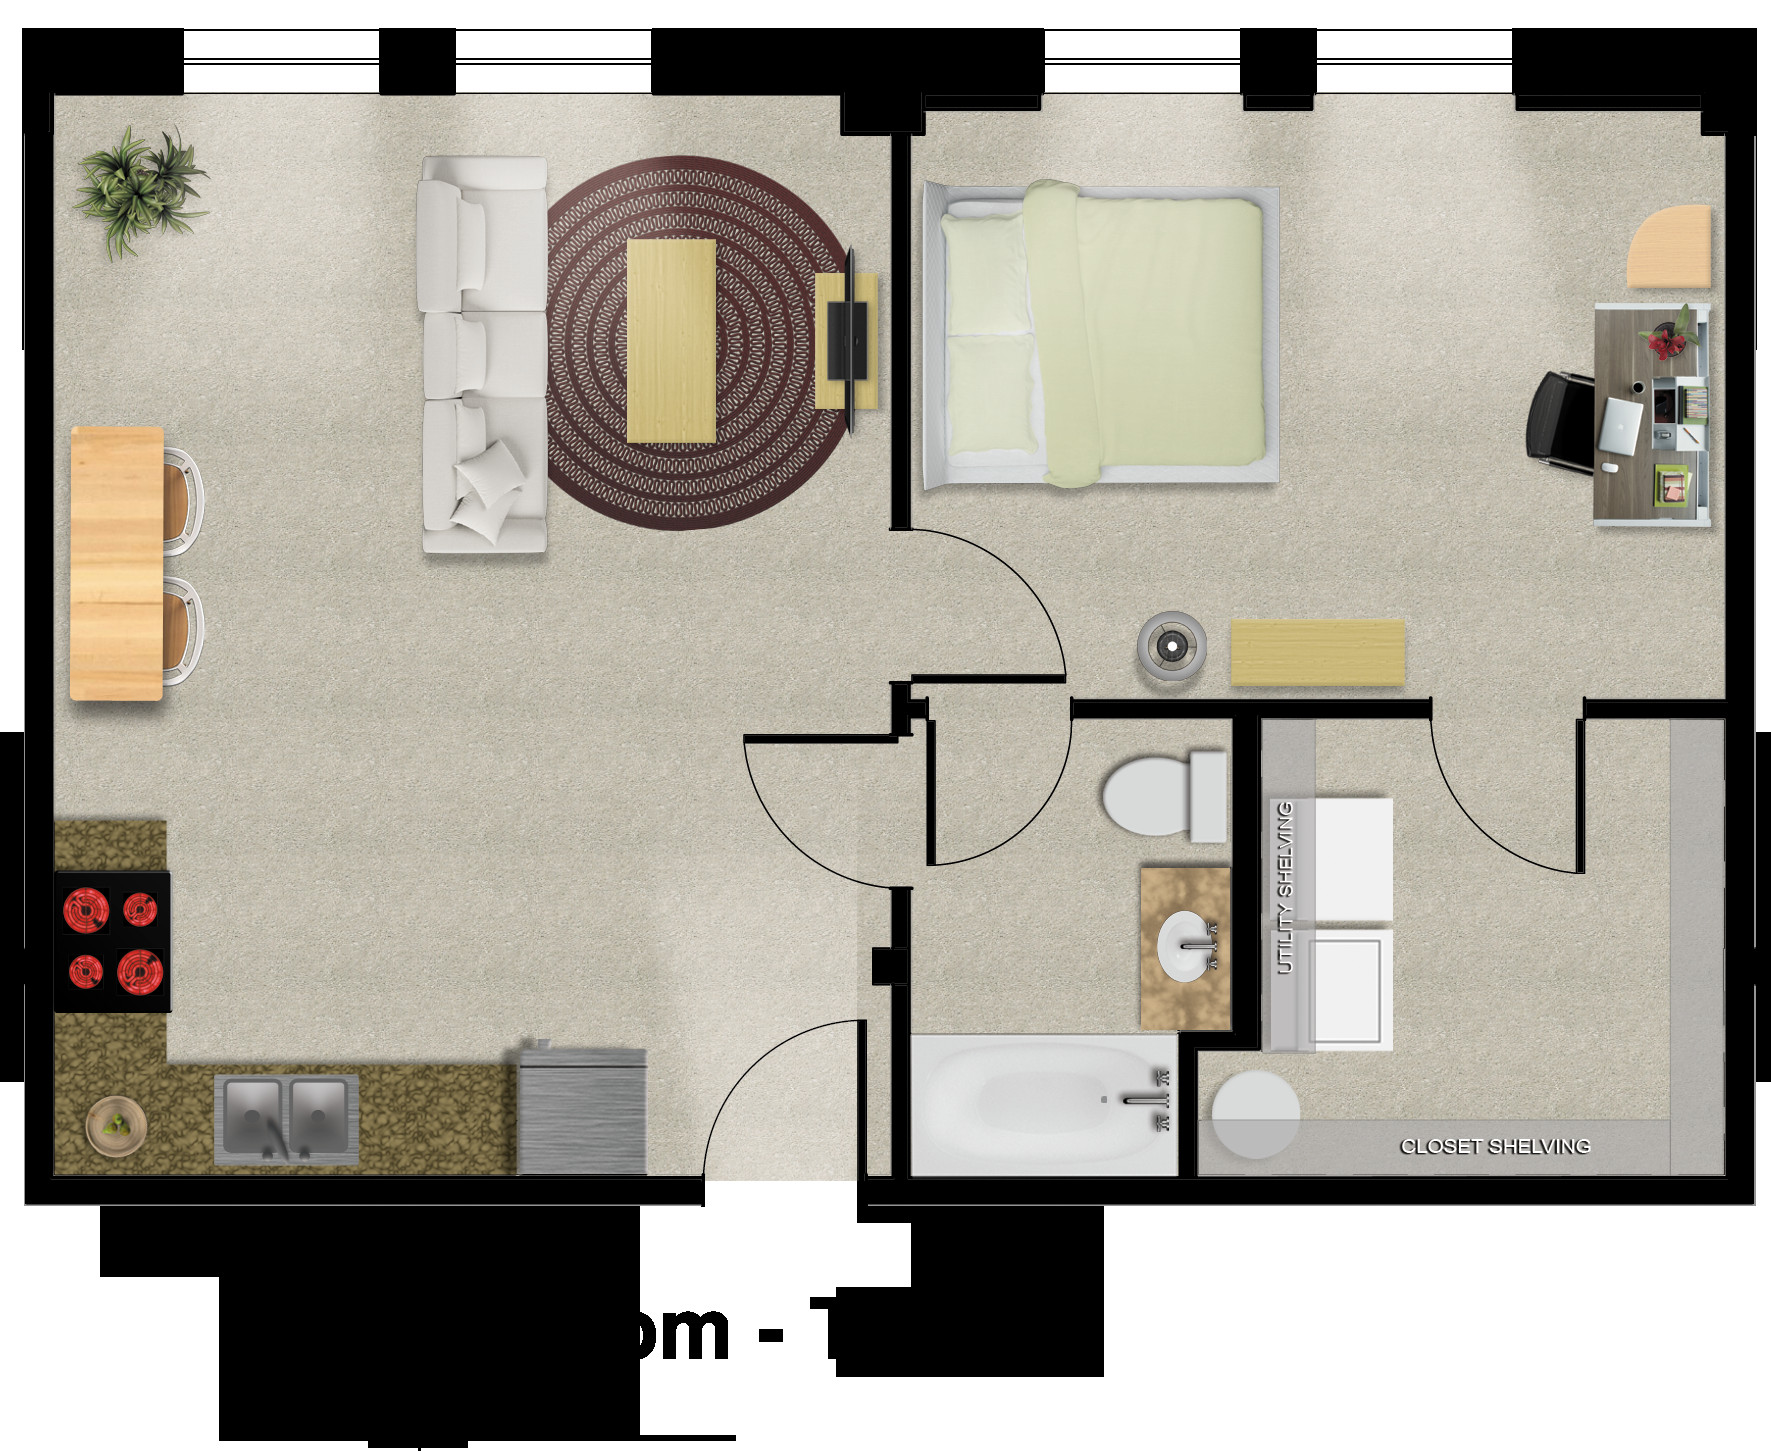window: (181, 26, 384, 99), (452, 26, 655, 99), (1040, 26, 1243, 99), (1311, 26, 1514, 99)
